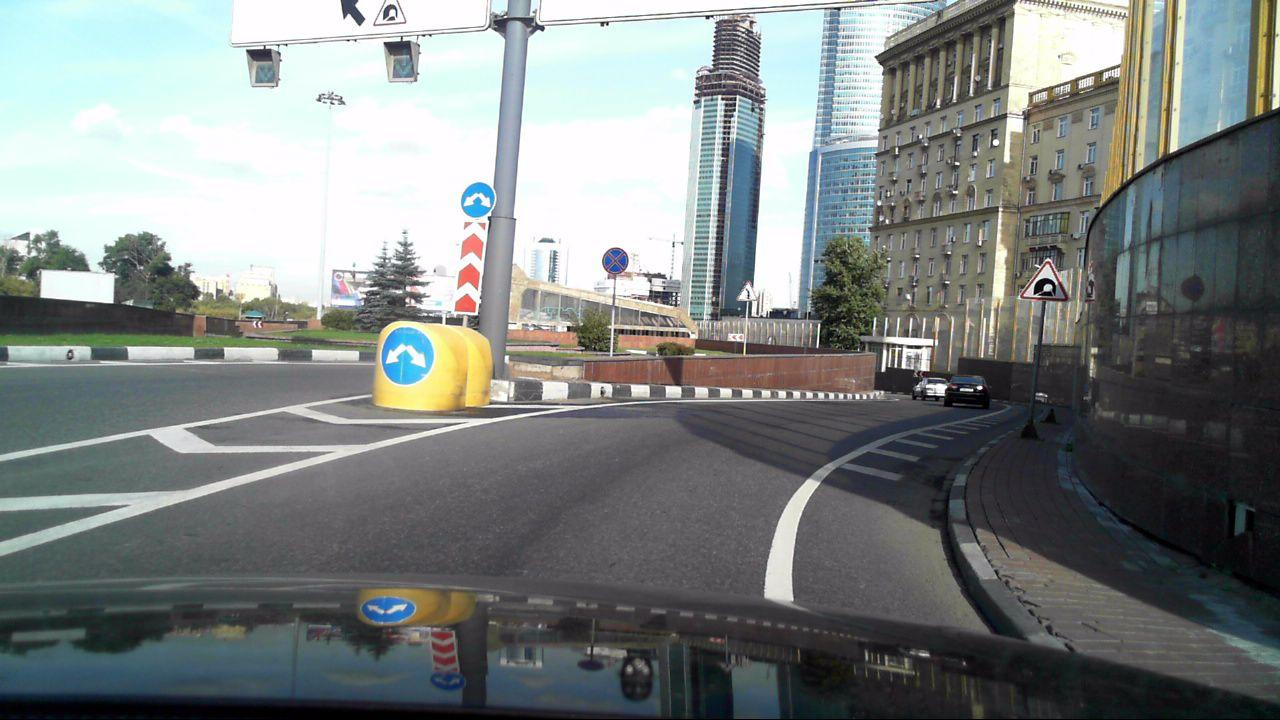1_11_2: (735, 278, 759, 303)
1_31: (1015, 251, 1072, 304)
3_27: (599, 244, 631, 277)
4_2_3: (379, 319, 435, 386), (460, 179, 498, 219)
8_22_3: (456, 216, 484, 315)
